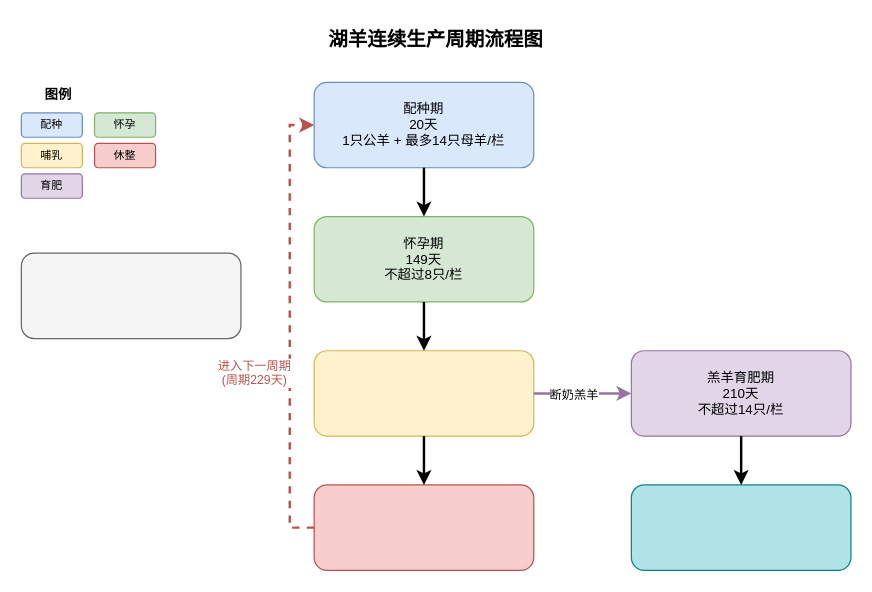
The diagram is 872 pixels wide and 592 high, and some of its shapes have lost their labels. The box of each missing label's shape, as (x1, y1, x2, y2) in pixels:
出栏 育肥完成: (630, 484, 851, 570)
哺乳期 40天 不超过6只母羊+羔羊/栏: (313, 350, 534, 436)
完整繁殖周期 = 229天 每只母羊每年约1.59个周期 每只母羊年产羔 ≈ 3.2只: (20, 252, 241, 339)
空怀休整期 20天 不超过14只/栏: (313, 484, 534, 570)
